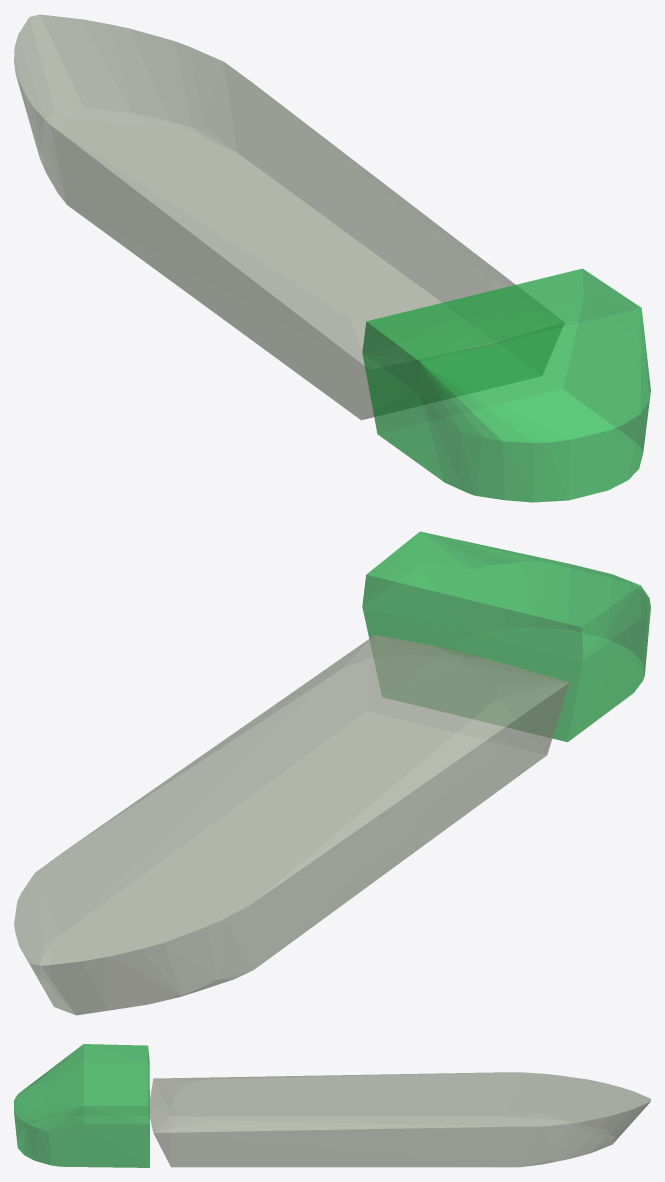
3 views of the same model, one above another, from view 1: azimuth 30°, elevation 25°; view 2: azimuth 150°, elevation 25°; view 3: azimuth 270°, elevation 25° (orthographic). The views are drawn at different scales.
Parts seen in each view (by area): view 1: Shape_IndexedFaceSet, Shape_IndexedFaceSet.001; view 2: Shape_IndexedFaceSet, Shape_IndexedFaceSet.001; view 3: Shape_IndexedFaceSet, Shape_IndexedFaceSet.001.
Part boxes in pixels (bbox=[...]): Shape_IndexedFaceSet: bbox=[14, 14, 563, 420]; Shape_IndexedFaceSet.001: bbox=[362, 268, 650, 502]; Shape_IndexedFaceSet: bbox=[14, 635, 569, 1015]; Shape_IndexedFaceSet.001: bbox=[362, 531, 650, 742]; Shape_IndexedFaceSet: bbox=[148, 1072, 650, 1167]; Shape_IndexedFaceSet.001: bbox=[14, 1044, 149, 1167].
Bounding box in the file's own units: 0.2236 × 0.1145 × 0.9742.
